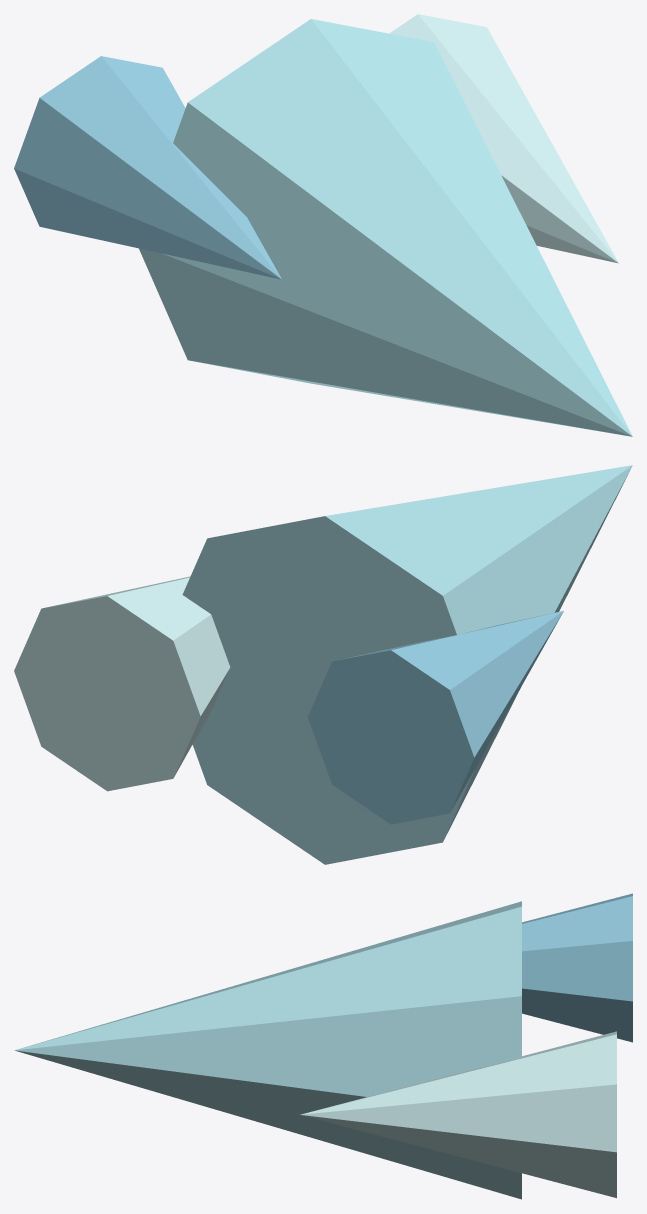
The model's file is krystal.glb.
3 views of the same model, one above another, from view 1: azimuth 30°, elevation 25°; view 2: azimuth 150°, elevation 25°; view 3: azimuth 270°, elevation 25° (orthographic). The views are drawn at different scales.
Visible parts, largest first — view 1: world; view 2: world; view 3: world.
Part boxes in pixels (bbox=[...]): world: bbox=[14, 14, 632, 436]; world: bbox=[14, 465, 632, 864]; world: bbox=[14, 893, 632, 1199].
Bounding box in the file's own units: 1.41 × 1 × 1.95.
